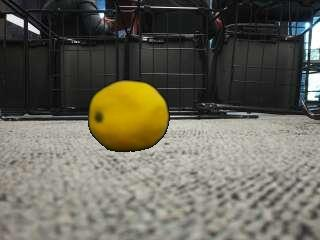lemon: (89, 80, 168, 151)
